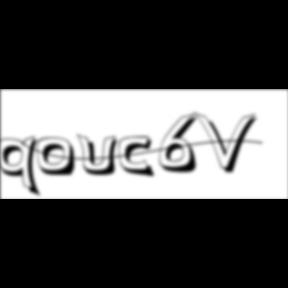6: (160, 112, 204, 176)
V: (194, 110, 262, 176)
c: (120, 136, 160, 180)
o: (37, 137, 79, 179)
q: (0, 135, 46, 200)
u: (77, 132, 125, 178)
